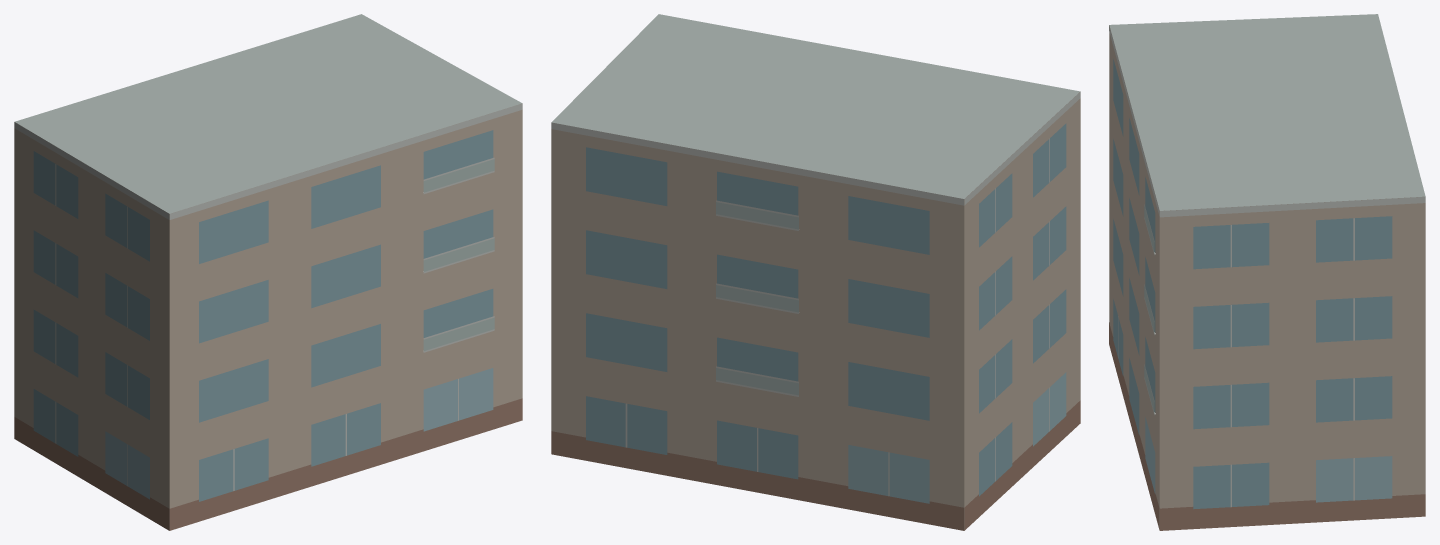
The model's file is survey-upis-32951783.glb.
The picture shows the model from 3 angles, left to right: view 1: azimuth 30°, elevation 25°; view 2: azimuth 150°, elevation 25°; view 3: azimuth 270°, elevation 25°; orthographic projection. The views are drawn at different scales.
Visible parts, largest first — view 1: survey-upis-32951783.tmp; view 2: survey-upis-32951783.tmp; view 3: survey-upis-32951783.tmp.
Boxes of the visible parts, left/top/right/bottom form: survey-upis-32951783.tmp: left=14, top=14, right=522, bottom=530; survey-upis-32951783.tmp: left=551, top=14, right=1080, bottom=530; survey-upis-32951783.tmp: left=1109, top=14, right=1425, bottom=530.
Size of the model in its own units: 16.12 by 12.2 by 10.95.
